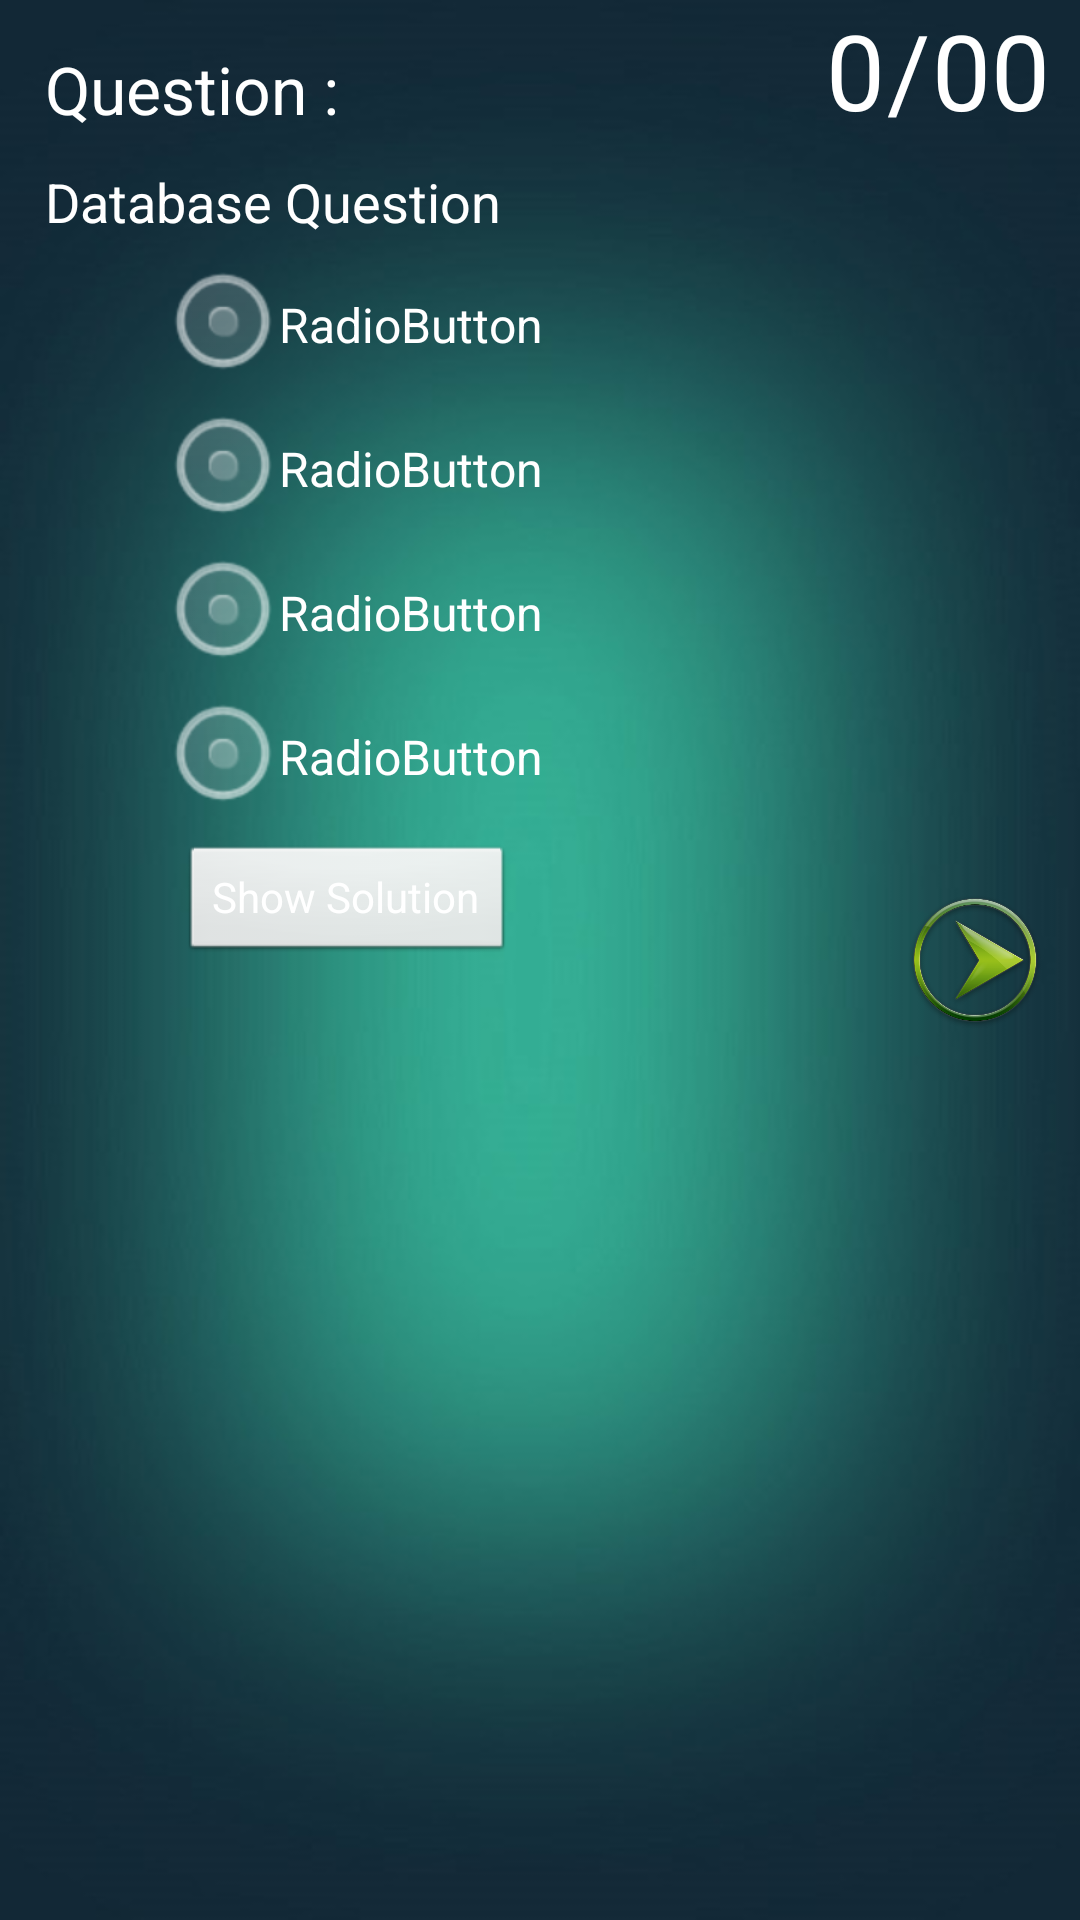

Point at icon controls on the screen. Image size 1080w x 1920h, points as (x,y).
nextbutton: (969,960)
